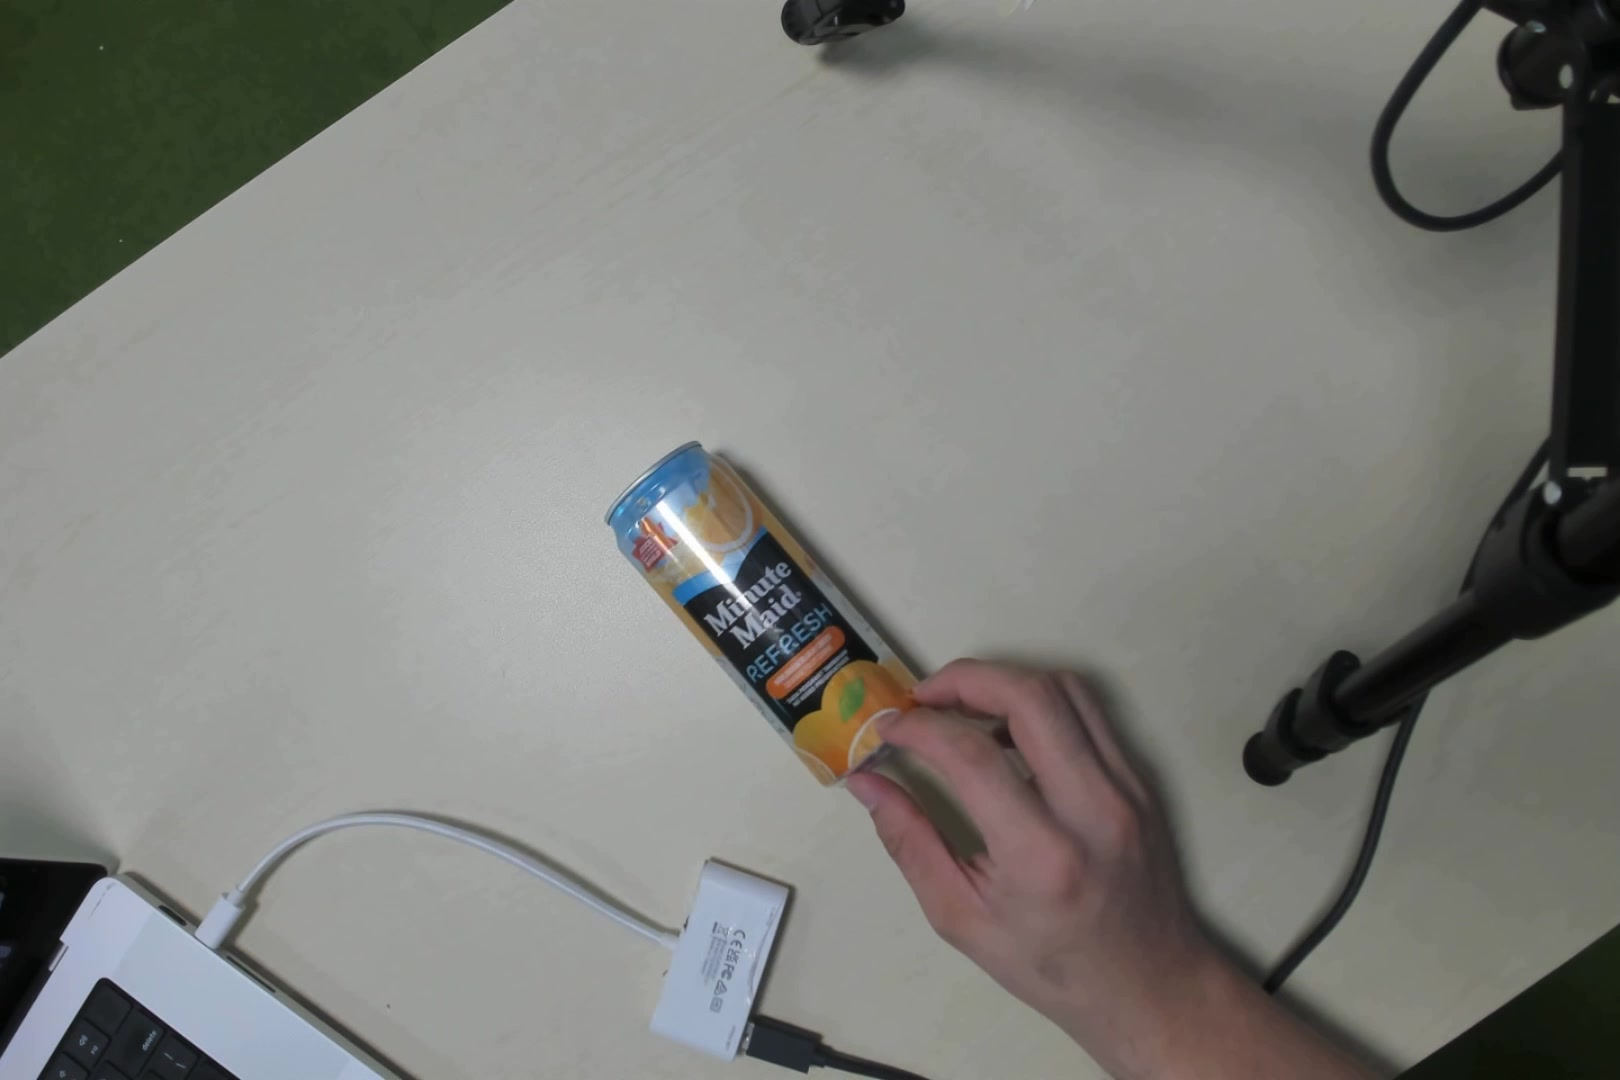SoftDrinks_200-299g_Halal_Healthy: (626, 460, 915, 790)
